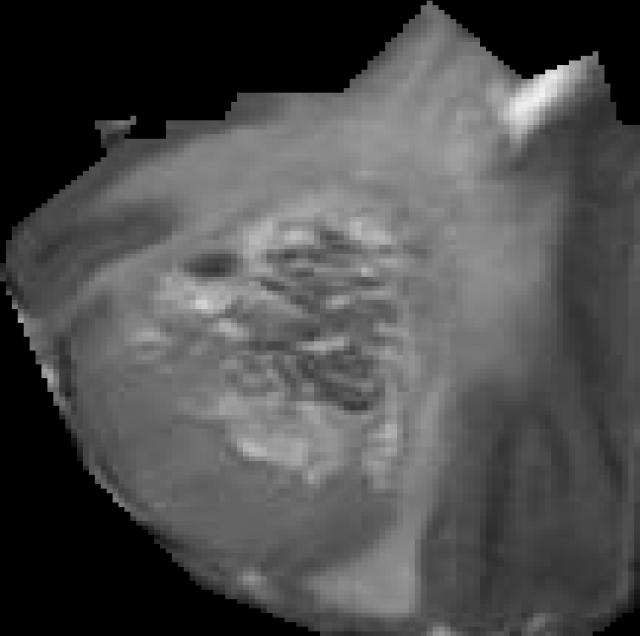tumor_moderate_chance: (0, 1, 640, 636)
